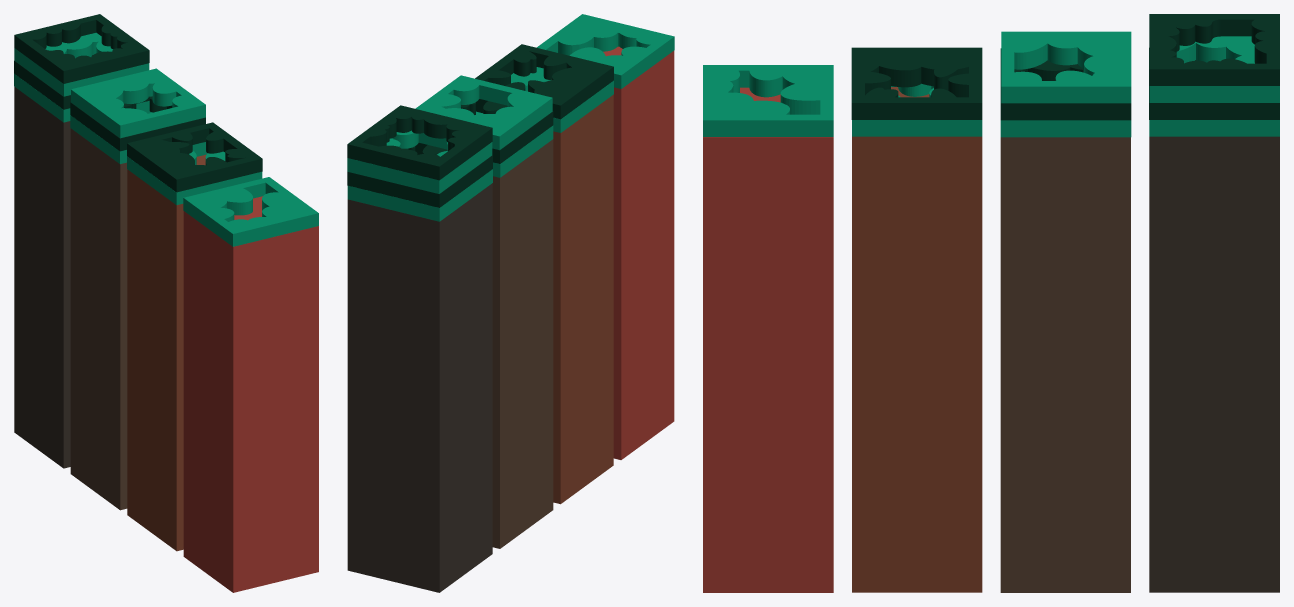
The model's file is 3D Modelle Biodiversität Teil I-1 Wald_Boden-D6.glb.
3 views of the same model, side by side, from view 1: azimuth 30°, elevation 25°; view 2: azimuth 150°, elevation 25°; view 3: azimuth 270°, elevation 25° (orthographic). The views are drawn at different scales.
Visible parts, largest first — view 1: color_row_1, color_row_4, color_row_3, color_row_2; view 2: color_row_4, color_row_3, color_row_2, color_row_1; view 3: color_row_4, color_row_3, color_row_2, color_row_1.
Part boxes in pixels (x1,y1,x2,y2): color_row_1: [183, 177, 318, 592]; color_row_4: [14, 14, 149, 468]; color_row_3: [70, 68, 205, 510]; color_row_2: [127, 122, 262, 551]; color_row_4: [347, 105, 492, 592]; color_row_3: [415, 75, 553, 548]; color_row_2: [475, 44, 613, 504]; color_row_1: [537, 14, 674, 459]; color_row_4: [1149, 14, 1279, 592]; color_row_3: [1000, 31, 1131, 592]; color_row_2: [851, 47, 982, 592]; color_row_1: [703, 65, 833, 592].
Size of the model in its own units: 0.1407 by 0.622 by 0.6205.
